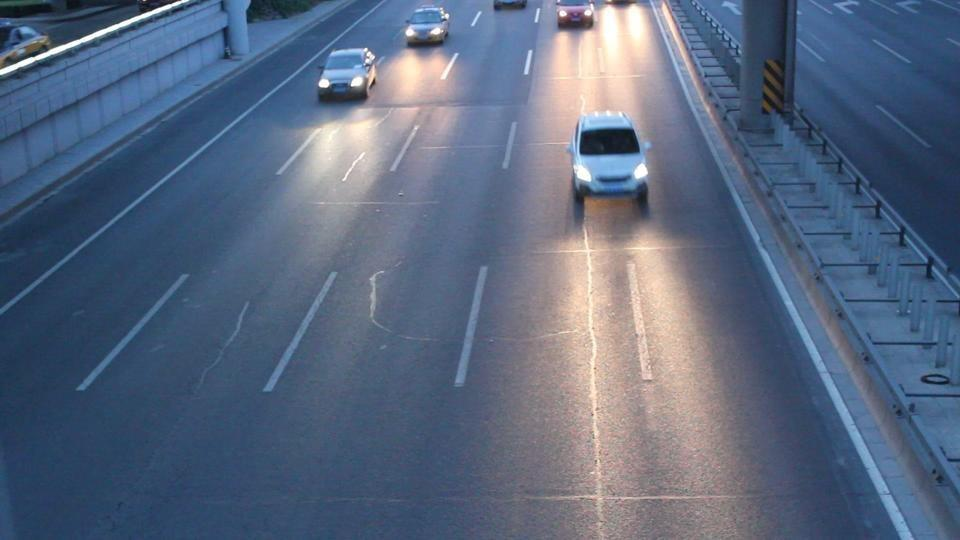car: (566, 111, 651, 205), (316, 47, 379, 102), (0, 23, 52, 70), (404, 7, 450, 44), (556, 0, 595, 29), (493, 0, 528, 12)
